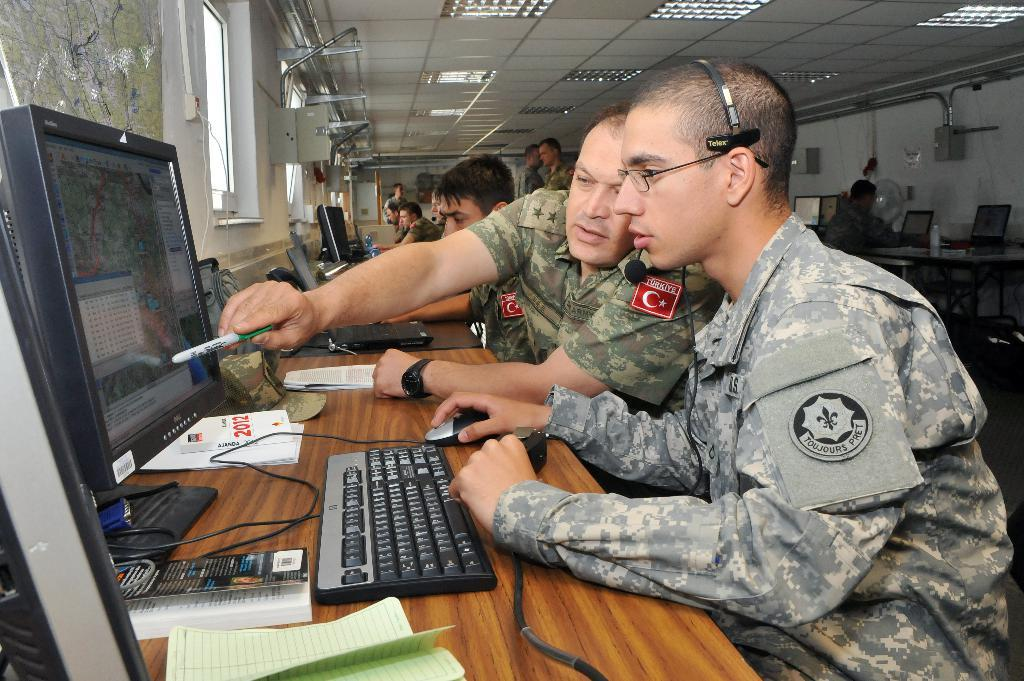Computer-keyboard: (316, 447, 499, 605), (341, 320, 396, 345), (957, 235, 997, 246), (799, 222, 826, 227)
